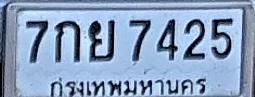2: (183, 18, 205, 59)
4: (156, 18, 178, 60)
5: (211, 18, 233, 58)
7: (129, 18, 151, 62), (26, 20, 48, 62)
A01: (55, 20, 80, 62)
A34: (88, 19, 115, 61)
BKK: (47, 74, 210, 97)
